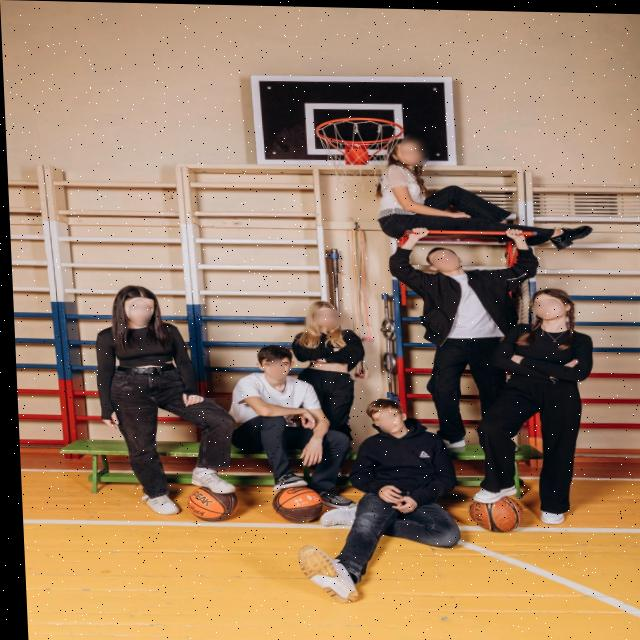Person: (278, 393, 469, 618), (458, 280, 624, 533), (82, 279, 241, 537), (377, 228, 516, 424), (212, 337, 364, 515), (360, 132, 594, 239), (283, 296, 372, 421)
